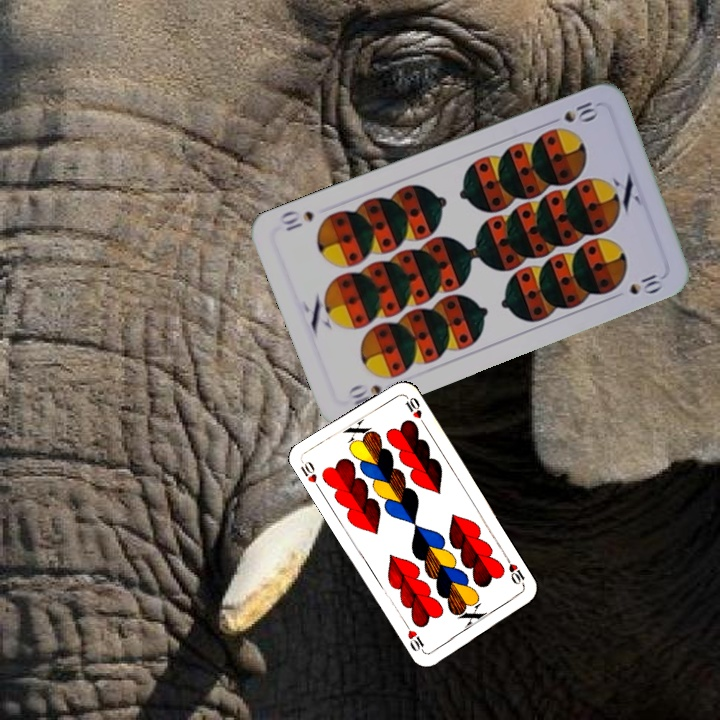H10: (297, 457, 324, 495), (502, 553, 528, 590)
S10: (343, 380, 385, 408), (560, 97, 601, 125)
